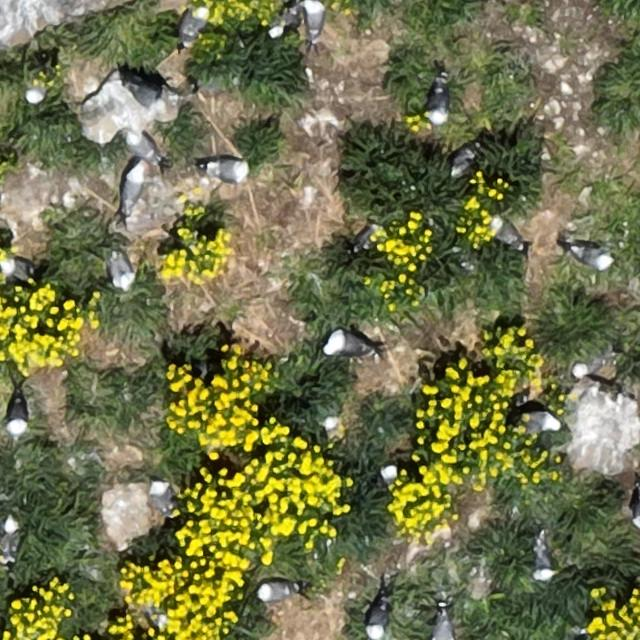umineko: (126, 78, 170, 114), (24, 58, 54, 106), (572, 353, 611, 380), (324, 333, 370, 355), (181, 6, 207, 40), (573, 248, 610, 270), (208, 160, 248, 180), (110, 254, 134, 287), (128, 132, 158, 158), (430, 80, 448, 123), (8, 396, 28, 434), (124, 167, 144, 205), (492, 219, 520, 245), (150, 482, 172, 515), (305, 1, 324, 38), (526, 411, 560, 431), (368, 602, 387, 637), (257, 583, 293, 601), (535, 544, 553, 580), (451, 147, 473, 176), (2, 259, 30, 279), (432, 614, 452, 640), (3, 516, 20, 542), (378, 464, 398, 486), (632, 493, 639, 526)
